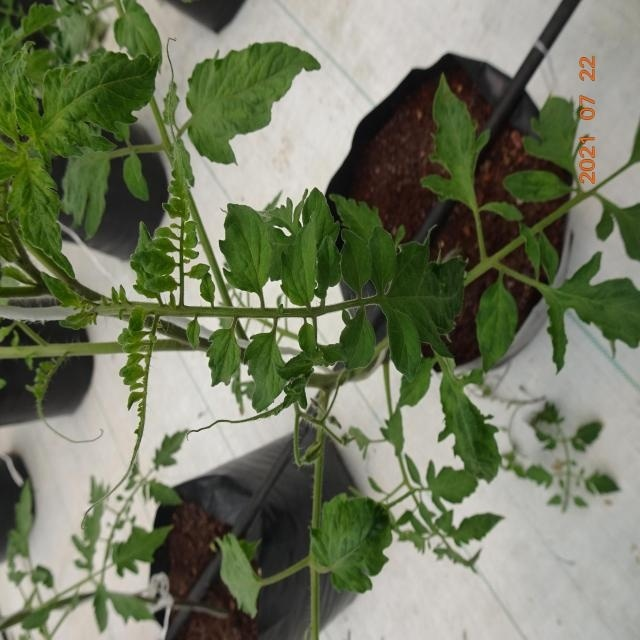T_L_R: (42, 53, 157, 158), (9, 158, 74, 276), (220, 204, 272, 309), (245, 323, 286, 413), (207, 326, 241, 388)
